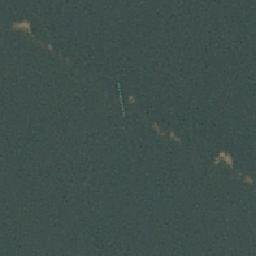debris: (152, 126, 179, 144), (208, 150, 235, 167), (10, 19, 31, 35), (243, 176, 254, 187)
